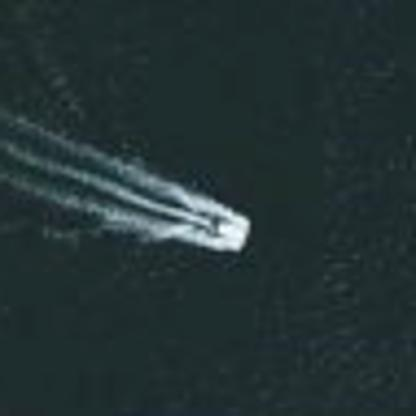ship: (204, 204, 251, 255)
